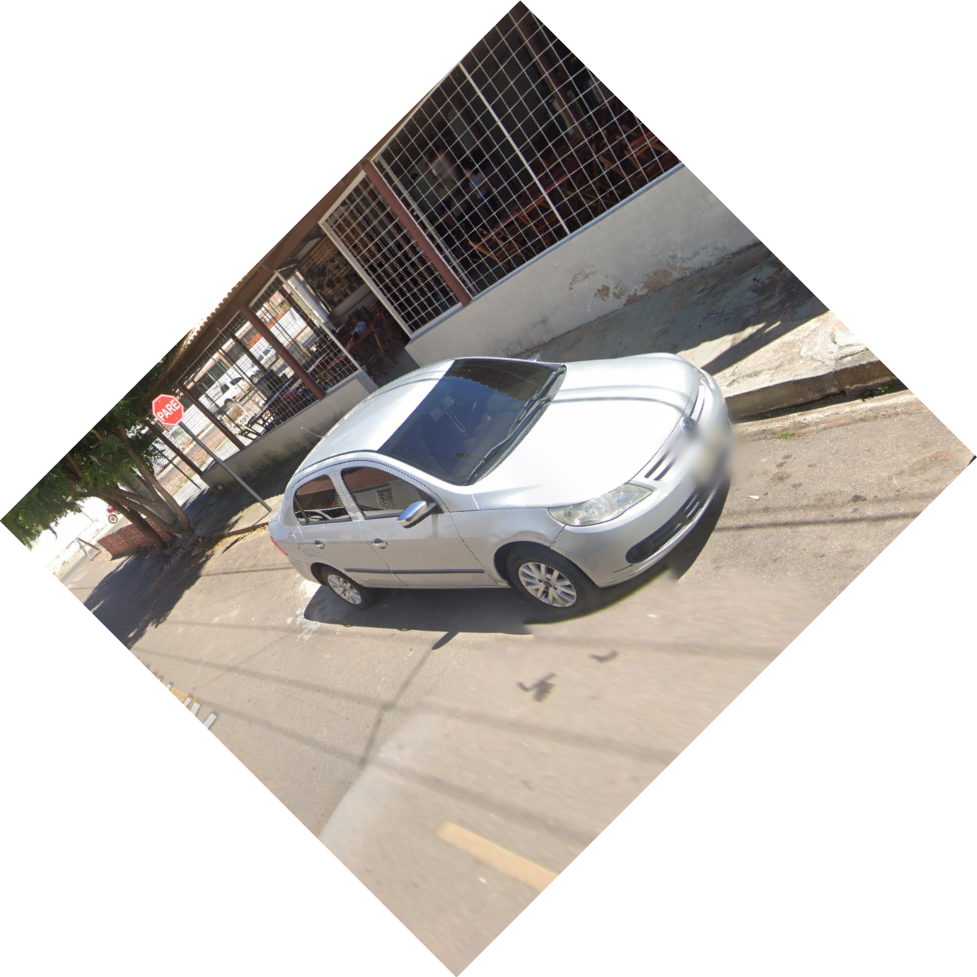car: (253, 354, 756, 642)
